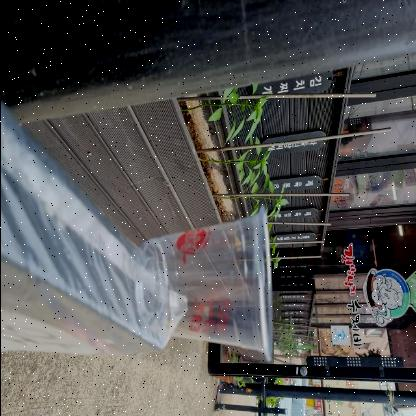Others: (128, 198, 276, 374)
